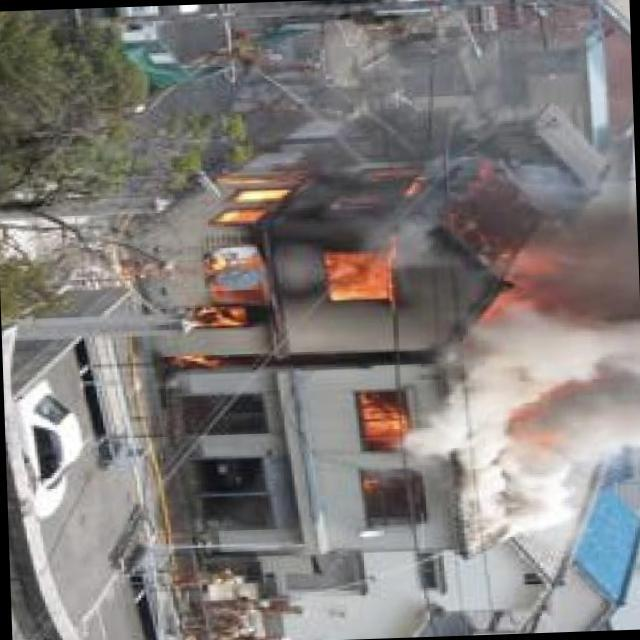Fire: (86, 161, 547, 379), (358, 394, 413, 502)
